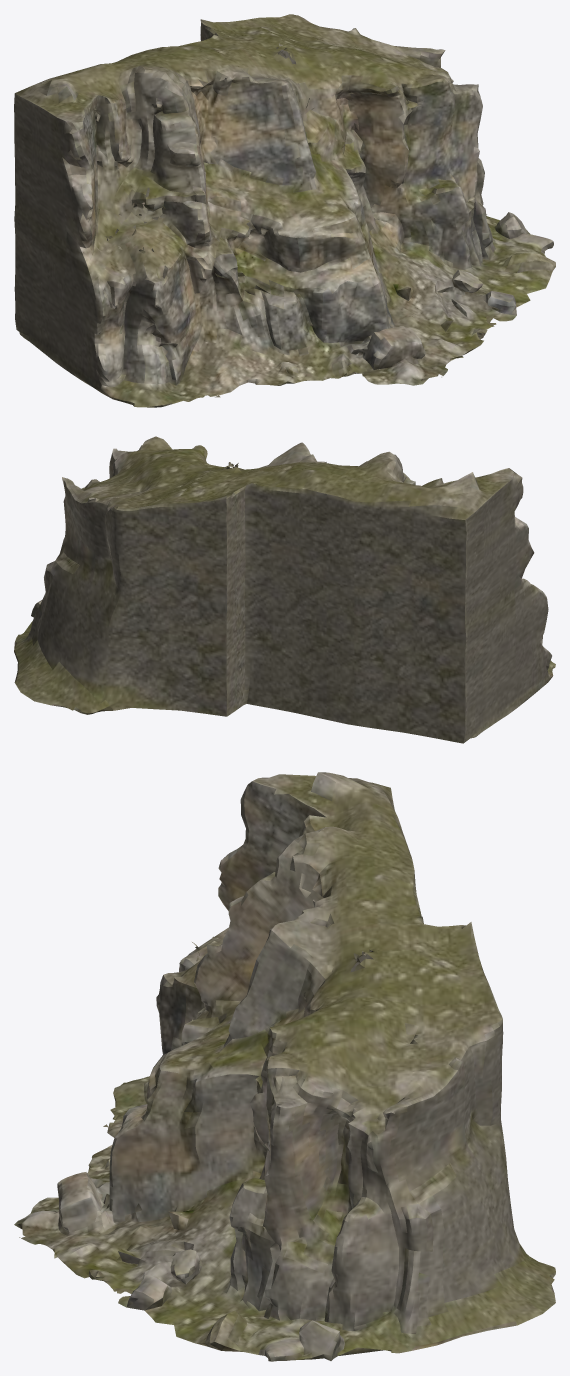
The model's file is Cliffs.glb.
3 renders of one model, top to bottom at view 1: azimuth 30°, elevation 25°; view 2: azimuth 150°, elevation 25°; view 3: azimuth 270°, elevation 25°, orthographic. The views are drawn at different scales.
Visible parts, largest first — view 1: Mesh0; view 2: Mesh0; view 3: Mesh0.
Boxes of the visible parts, x1,y1,x2,y2 form: Mesh0: (14,14,555,407); Mesh0: (14,436,555,743); Mesh0: (14,772,555,1361).
Bounding box in the file's own units: 1.88 × 0.9583 × 1.48.
Materials: 1 (1 with a texture image).
